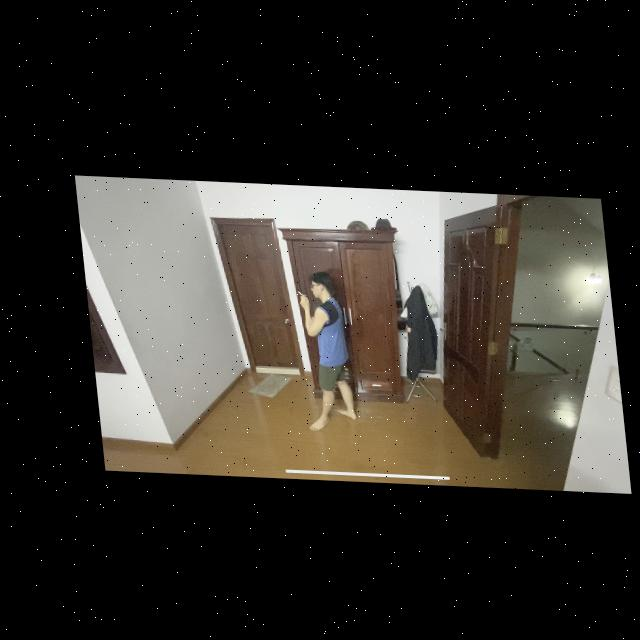cigarette: (292, 288, 298, 293)
